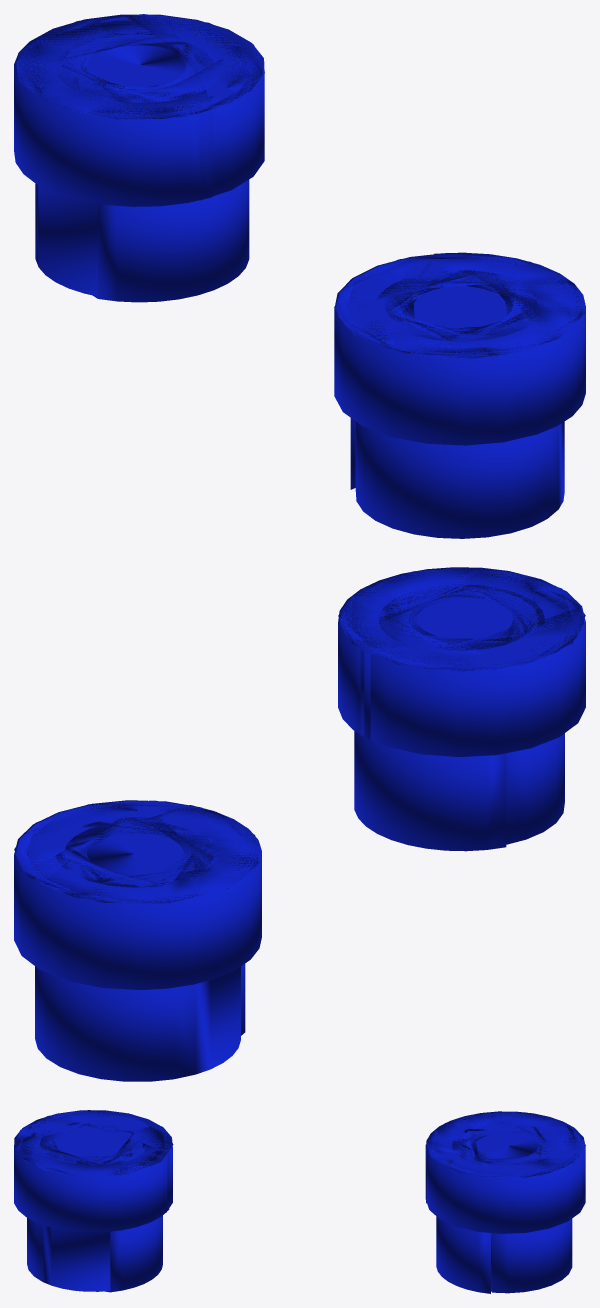
File: tuyeau_element_000054.obj
3 views of the same model, one above another, from view 1: azimuth 30°, elevation 25°; view 2: azimuth 150°, elevation 25°; view 3: azimuth 270°, elevation 25° (orthographic). The views are drawn at different scales.
Visible parts, largest first — view 1: tuyeau1_Cube.014, tuyeau2_Cube.017; view 2: tuyeau2_Cube.017, tuyeau1_Cube.014; view 3: tuyeau1_Cube.014, tuyeau2_Cube.017.
Boxes of the visible parts, x1,y1,x2,y2 form: tuyeau1_Cube.014: (14,14,264,302); tuyeau2_Cube.017: (334,252,585,538); tuyeau2_Cube.017: (338,567,585,851); tuyeau1_Cube.014: (14,800,261,1081); tuyeau1_Cube.014: (425,1111,585,1293); tuyeau2_Cube.017: (14,1110,173,1292).
Size of the model in its own units: 3595 by 2917 by 12600.
